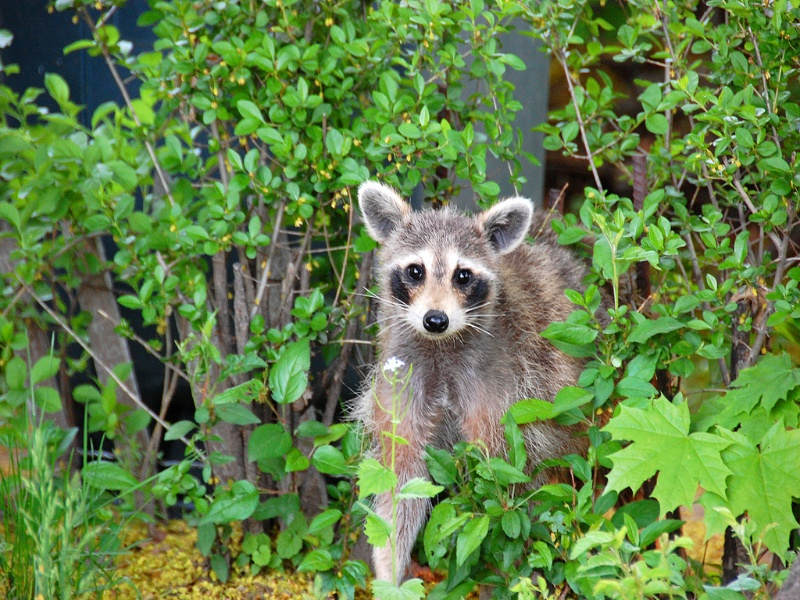raccoon: (349, 178, 605, 591)
